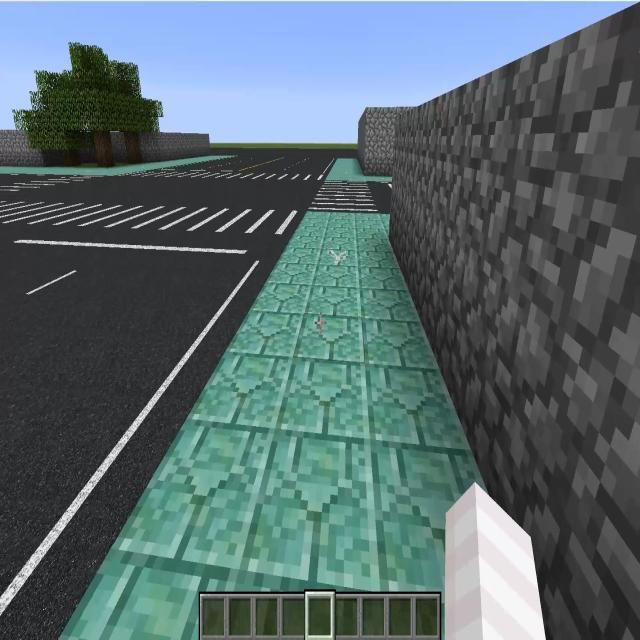crosswalk: (1, 195, 306, 245), (132, 165, 325, 185), (2, 174, 95, 204), (309, 179, 388, 213)
road: (4, 240, 276, 639), (32, 175, 318, 203), (203, 148, 355, 168)
sidewalk: (62, 212, 484, 639), (0, 155, 234, 175), (325, 159, 392, 183)
